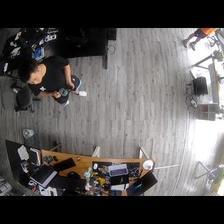normal: (19, 55, 88, 106)
